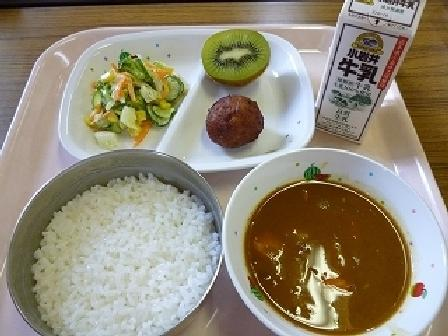Curry: (236, 156, 428, 330)
Milk: (308, 4, 428, 135)
Rice: (18, 148, 216, 334)
Salad: (81, 47, 179, 144)
cutlet: (192, 92, 275, 157)
kiwi: (191, 26, 281, 84)
